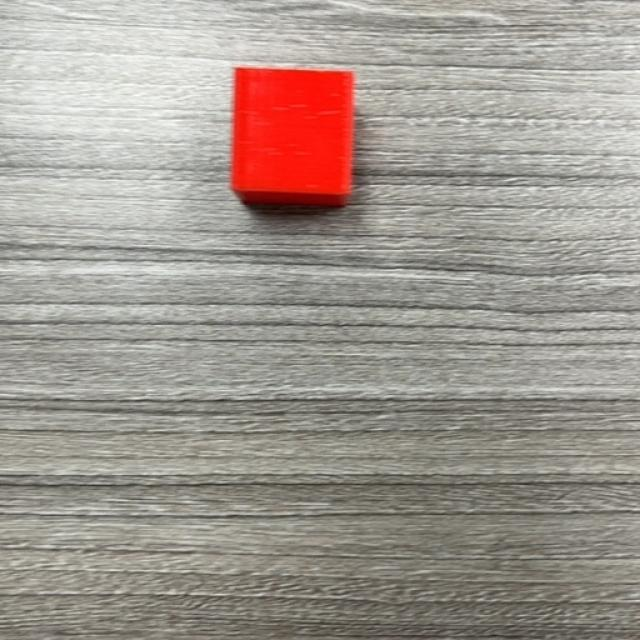Rojo: (229, 65, 356, 210)
